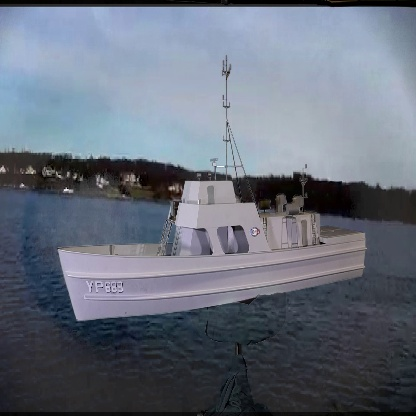YP689: (55, 65, 368, 325)
